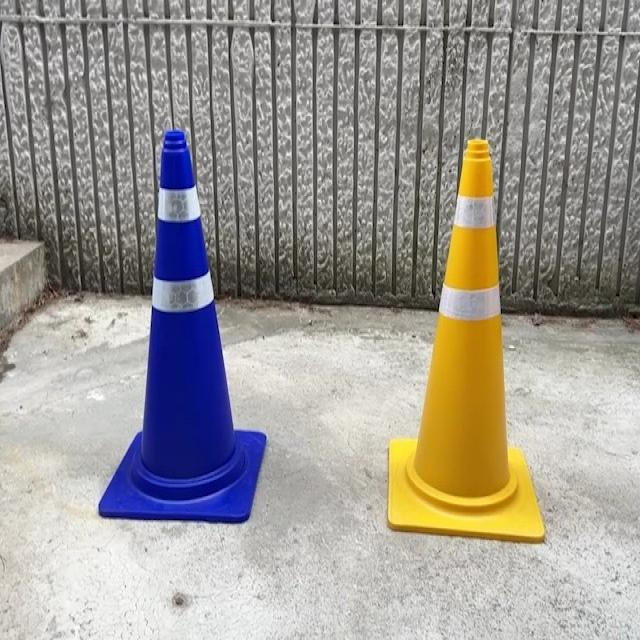b_rub: (98, 130, 267, 523)
y_rub: (388, 138, 545, 543)
